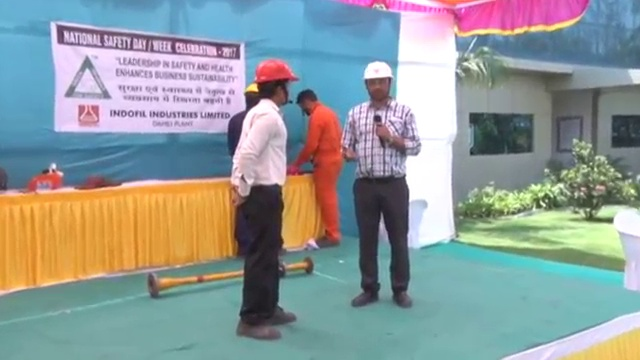helmet: (253, 60, 301, 82), (359, 59, 398, 81), (240, 81, 261, 95)
helmet_off: (293, 87, 322, 115)
helmet_on: (252, 59, 301, 114), (359, 58, 399, 106), (240, 81, 263, 115)
person: (342, 58, 423, 308), (230, 57, 299, 342), (292, 85, 344, 249), (226, 83, 262, 158)
